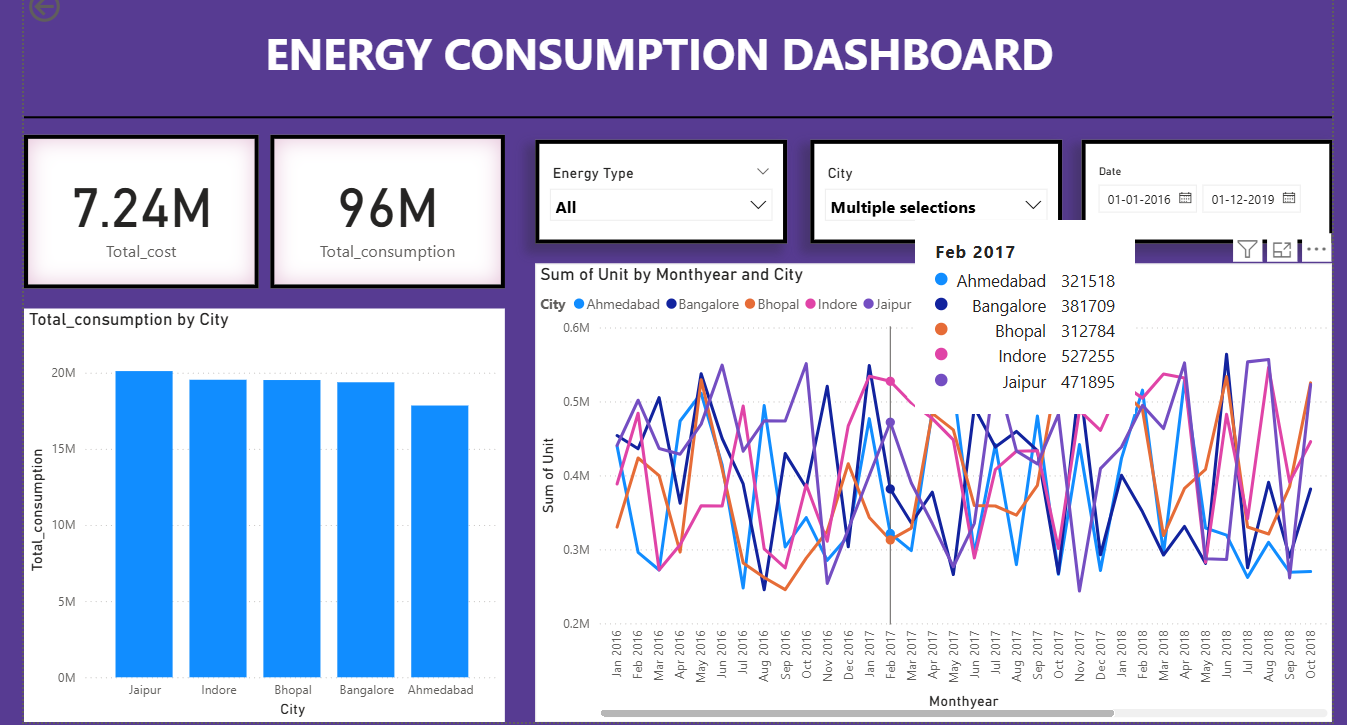

This screenshot's page, from the dashboard's own definition file:
{"tool":"powerbi","page":{"name":"Page 1","canvas":[1280,720],"ordinal":0},"visuals":[{"type":"shape","box":[0,82.3,1280.3,93],"z":0},{"type":"textbox","box":[231.1,30.6,816.9,68.5],"z":3000},{"type":"card","fields":{"Values":["Measures (2).Total_cost"]},"box":[0,146,229.8,150.1],"z":4000},{"type":"actionButton","box":[0,0,100,40],"z":5000},{"type":"card","fields":{"Values":["Measures (2).Total_consumption"]},"box":[240.6,146,229.8,150.1],"z":6000},{"type":"slicer","fields":{"Values":["Rates.Energy Type"]},"box":[500.2,150.1,246.1,101.4],"z":7000},{"type":"slicer","fields":{"Values":["Energy Consumptions.Building"]},"box":[769.2,150.1,246.1,101.4],"z":8000},{"type":"slicer","fields":{"Values":["Energy Consumptions.Date"]},"box":[1034.2,150.1,246.1,101.4],"z":9000},{"type":"lineChart","fields":{"Series":["Energy Consumptions.City"],"Y":["Sum(Energy Consumptions.Unit)"],"Category":["Energy Consumptions.Monthyear"]},"box":[500.1,271.5,780.2,448.8],"z":10000},{"type":"clusteredColumnChart","fields":{"Category":["Energy Consumptions.City"],"Y":["Measures (2).Total_consumption"]},"box":[0,315.5,470.8,404.8],"z":11000}]}

Visuals, with their boxes in screenshot pixels (x1, y1, x2, y2):
shape: locate(18, 43, 1338, 139)
textbox: locate(256, 0, 1098, 60)
card - Measures (2).Total_cost: locate(18, 108, 254, 263)
card - Measures (2).Total_consumption: locate(266, 108, 503, 263)
slicer - Rates.Energy Type: locate(533, 113, 787, 217)
slicer - Energy Consumptions.Building: locate(811, 113, 1064, 217)
slicer - Energy Consumptions.Date: locate(1084, 113, 1338, 217)
lineChart - Energy Consumptions.City x Sum(Energy Consumptions.Unit): locate(533, 238, 1338, 701)
clusteredColumnChart - Energy Consumptions.City x Measures (2).Total_consumption: locate(18, 283, 503, 701)
